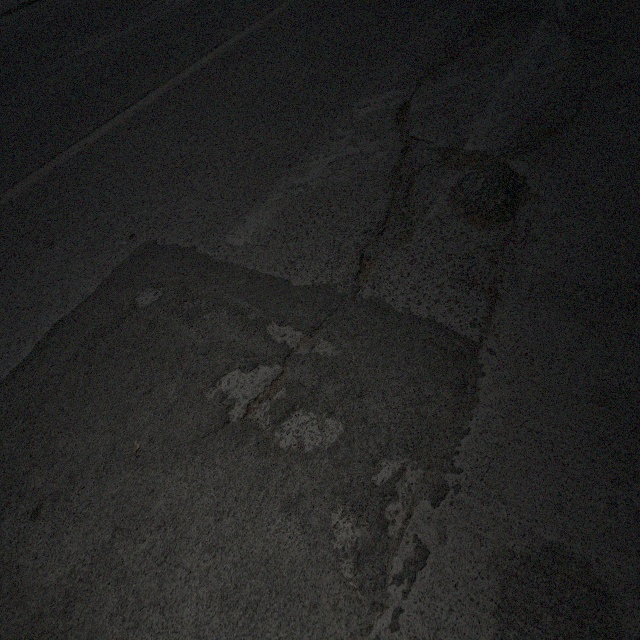pothole: (244, 327, 318, 415), (379, 92, 412, 232), (354, 236, 378, 288)
